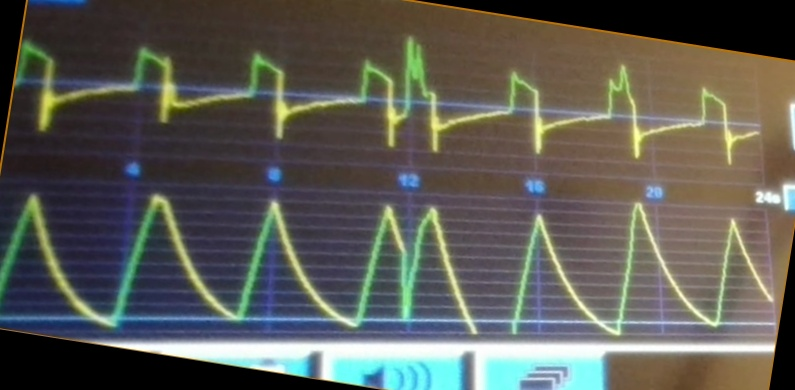Double_Triggering Flow: (25, 32, 685, 160)
Double_Triggering Volume: (22, 194, 732, 339)
